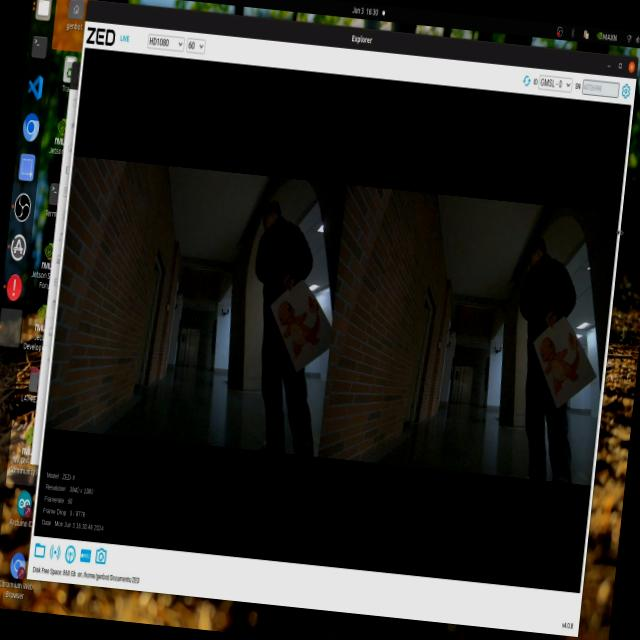red: (528, 324, 586, 402), (276, 278, 332, 358)
